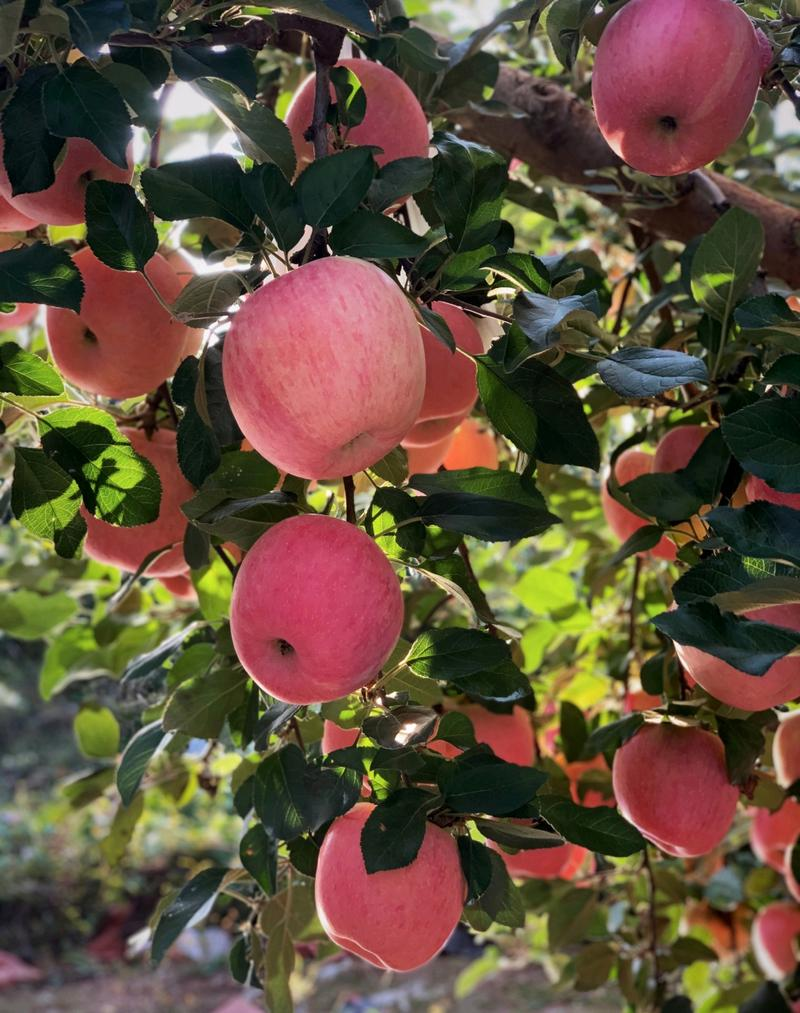ripe: (212, 256, 434, 483), (217, 506, 408, 713), (587, 0, 768, 189), (264, 49, 444, 217), (302, 799, 463, 982), (39, 238, 212, 395), (0, 62, 152, 227), (659, 550, 800, 711), (615, 713, 739, 871)
